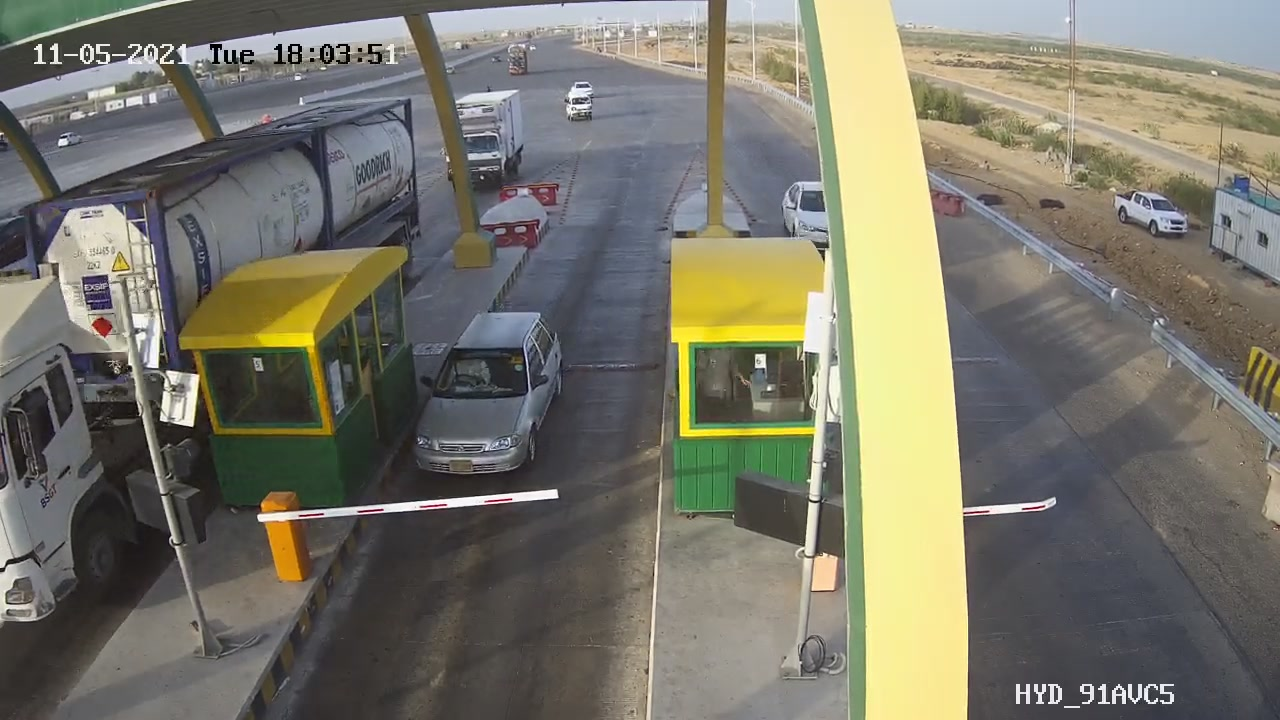F1: (397, 300, 580, 490)
